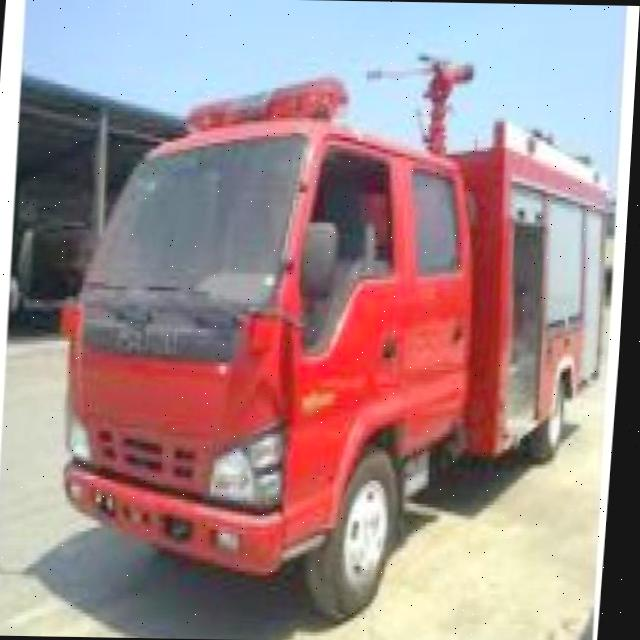emergency: (42, 48, 626, 625)
